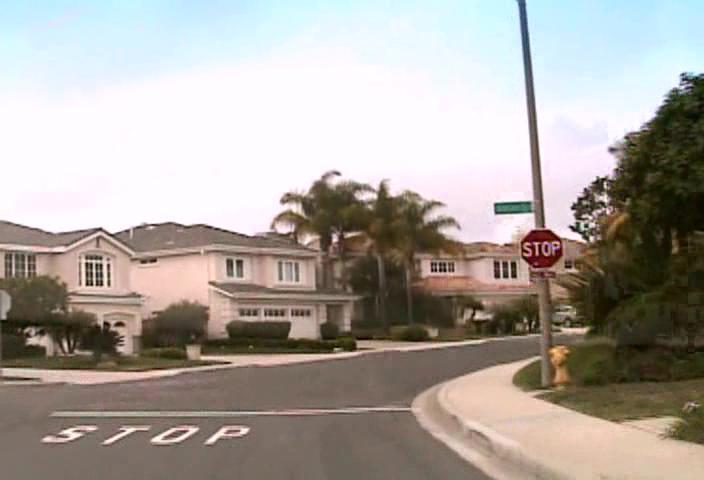stop: (519, 228, 564, 269)
